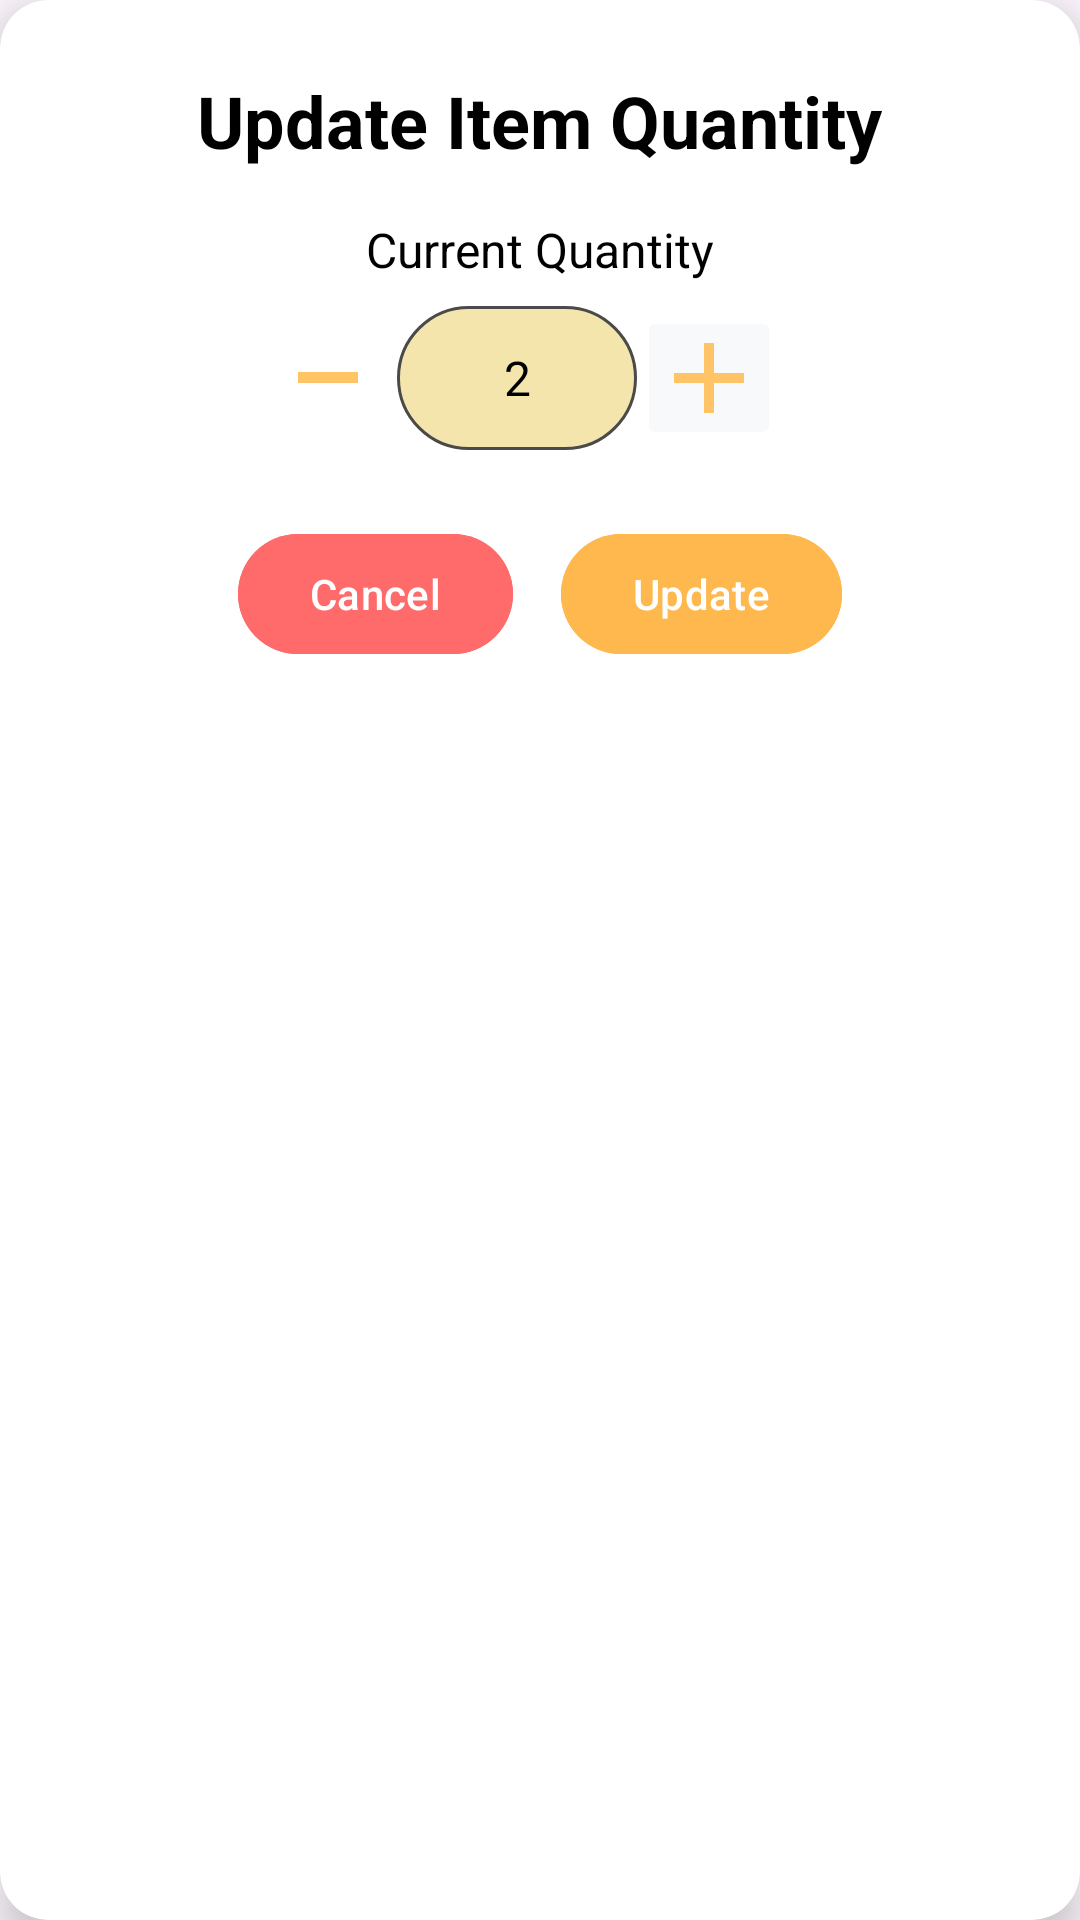

Icons on this 1080*1920 Android screen, each with its box as (x1, y1, x2, y2):
add: (674, 343, 744, 413)
